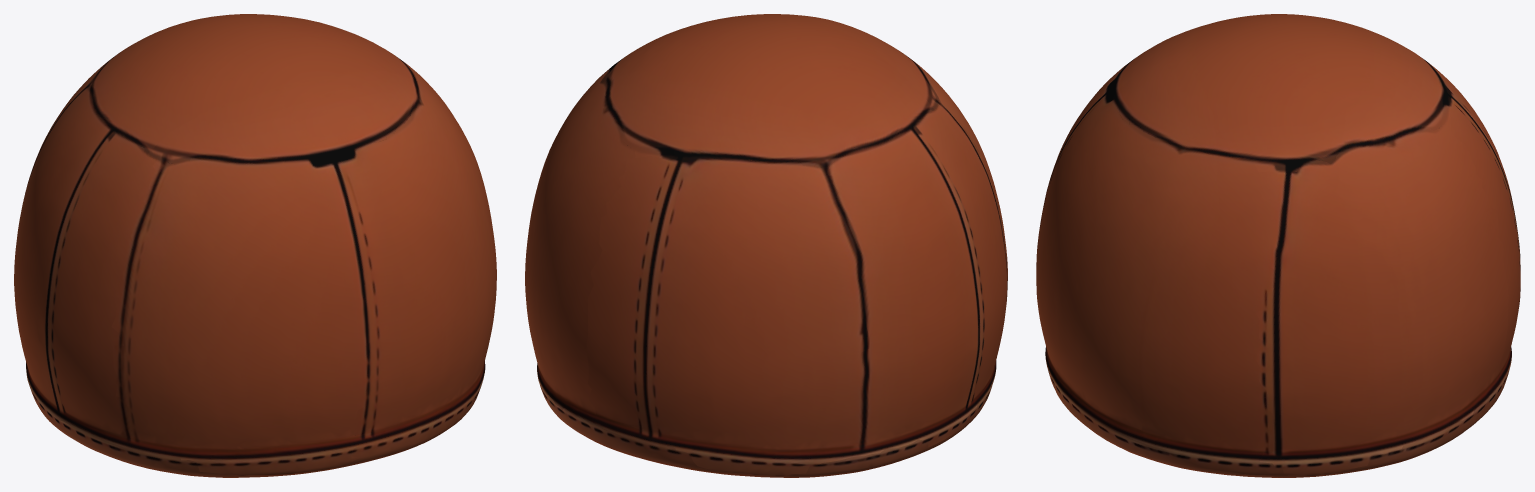
Rendered from item_leather_cap.glb.
The picture shows the model from 3 angles, left to right: view 1: azimuth 30°, elevation 25°; view 2: azimuth 150°, elevation 25°; view 3: azimuth 270°, elevation 25°; orthographic projection.
Parts seen in each view (by area): view 1: tmp685v0eh1.ply; view 2: tmp685v0eh1.ply; view 3: tmp685v0eh1.ply.
Part boxes in pixels (left/top/right/bottom): tmp685v0eh1.ply: left=14, top=14, right=496, bottom=477; tmp685v0eh1.ply: left=525, top=14, right=1007, bottom=477; tmp685v0eh1.ply: left=1036, top=14, right=1520, bottom=477.
Size of the model in its own units: 1.99 by 1.58 by 1.99.
Materials: 1 (1 with a texture image).
